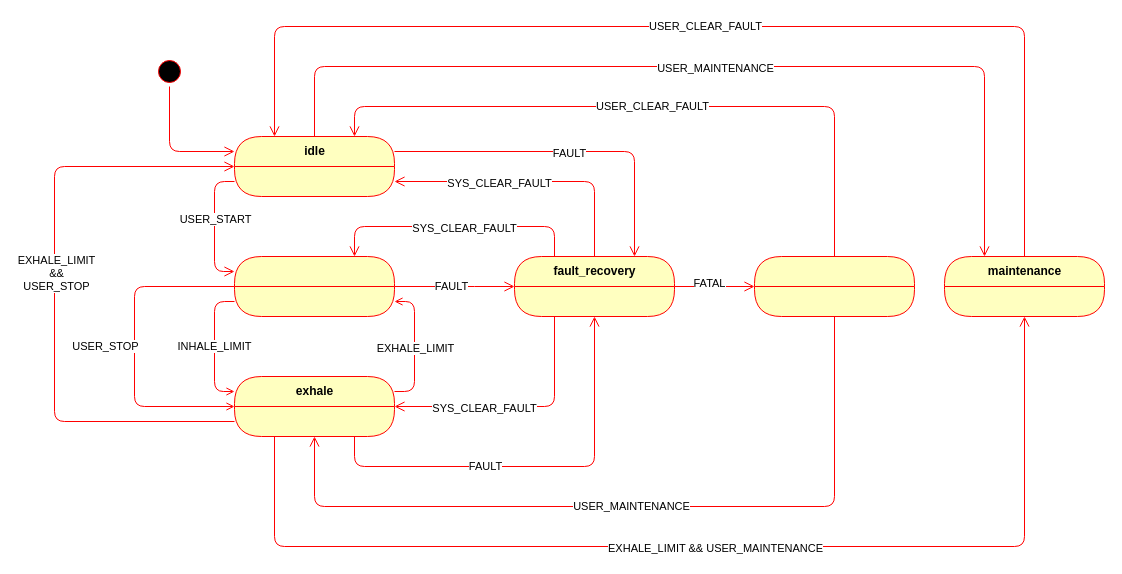
The diagram is 1122 pixels wide and 574 high, and some of its shapes have lost their labels. Here are the shapes that lost their labels. From the top down, the centre of each, then its label:
At (x=314, y=286): "inhale".
At (x=834, y=286): "fault_fatal".
